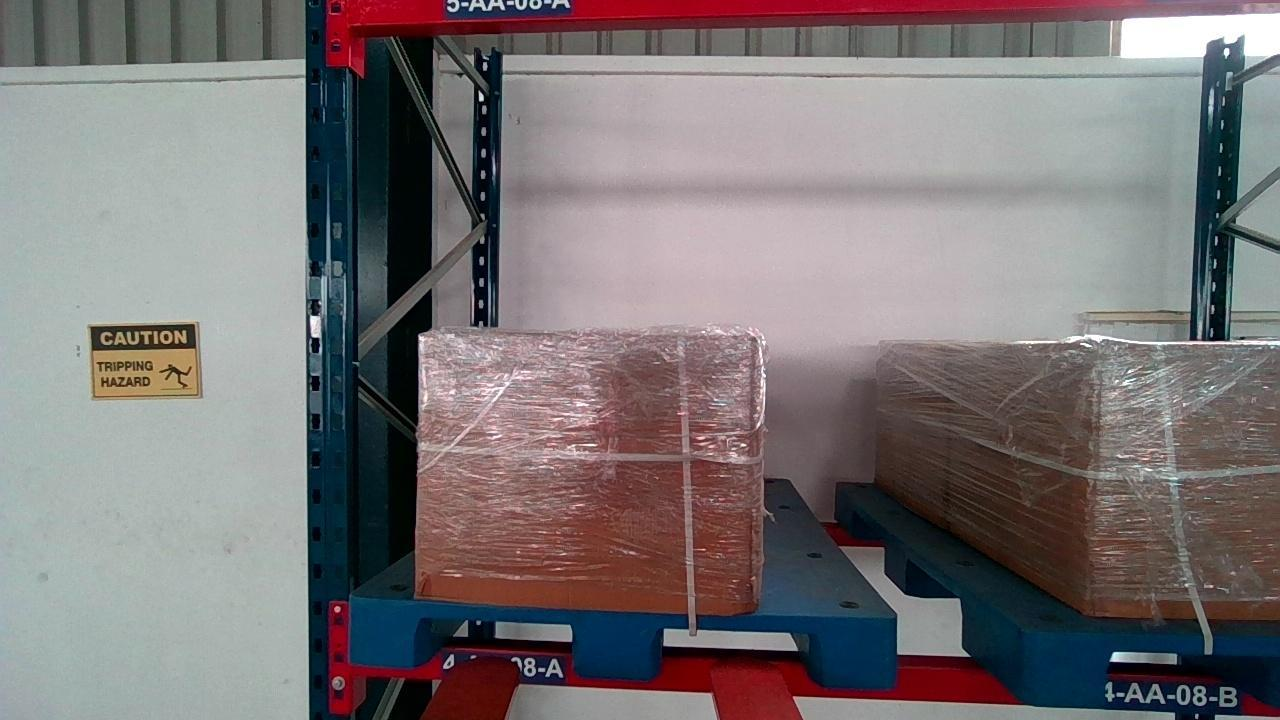h_rack: (357, 639, 1278, 717), (344, 0, 1254, 25)
small_pallet: (346, 600, 893, 690)
